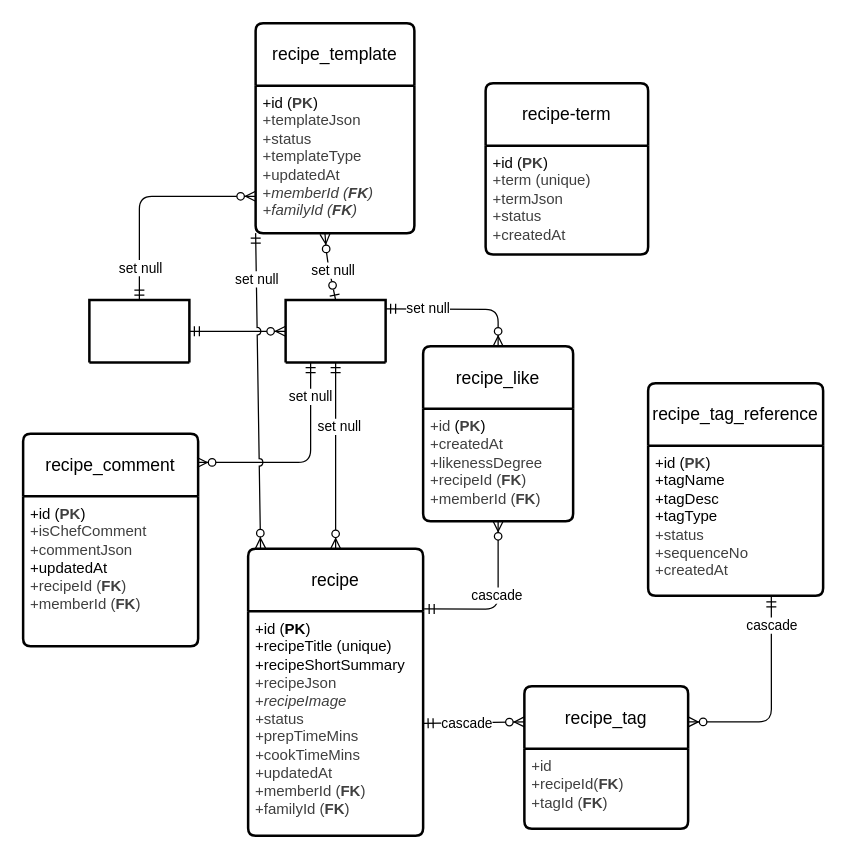
Image size: 845x858. Some labels were removed from this diagram. The centre of each missing label's shape, as x and y in pixels:
"family" belongs at (139,330).
"member" belongs at (335,330).
